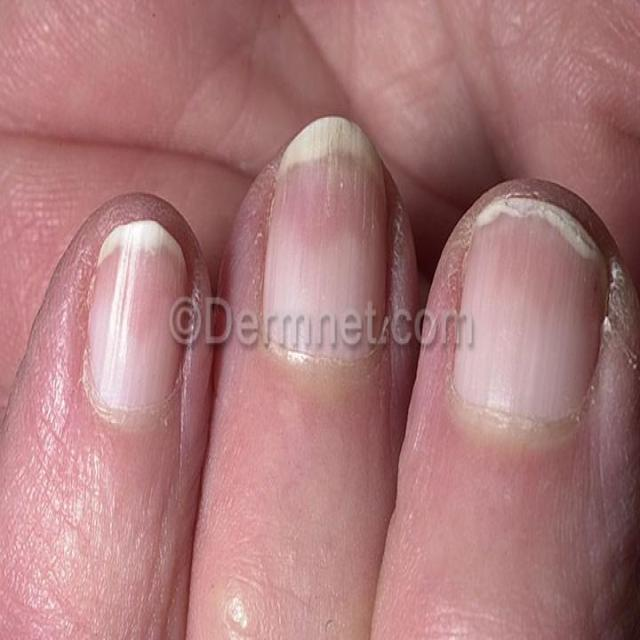Nail: (452, 202, 604, 426), (262, 118, 391, 359), (91, 221, 186, 404)
